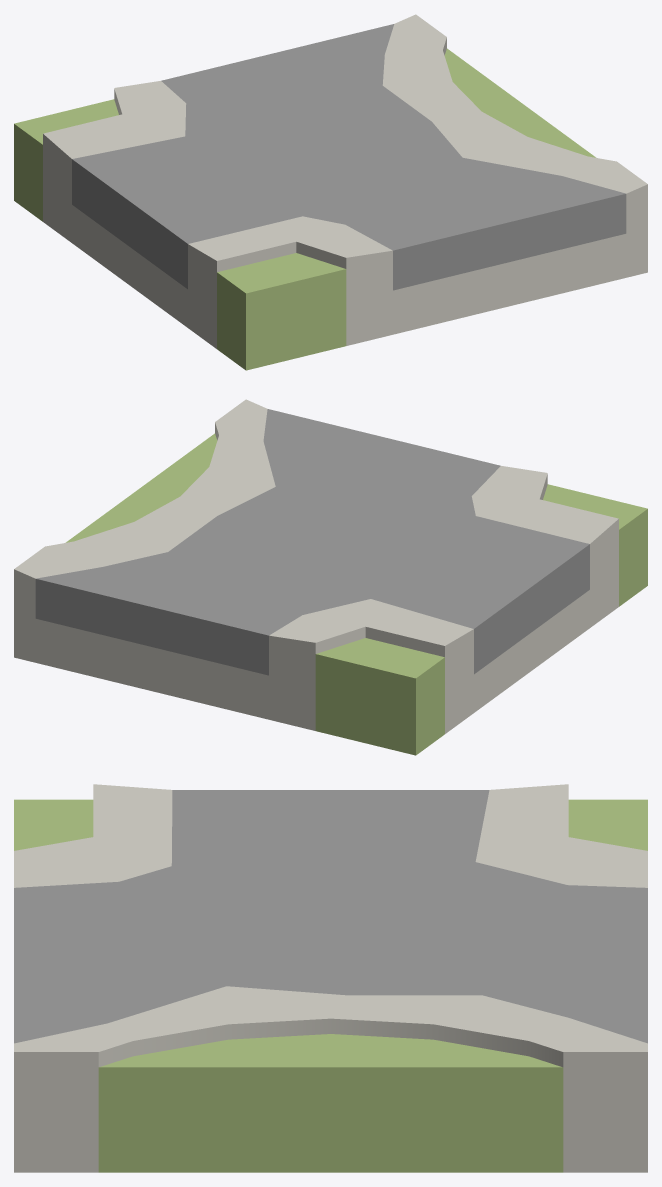
File: SM_ROAD_02.fbx
3 views of the same model, one above another, from view 1: azimuth 30°, elevation 25°; view 2: azimuth 150°, elevation 25°; view 3: azimuth 270°, elevation 25° (orthographic). The views are drawn at different scales.
Parts seen in each view (by area): view 1: ROAD_02; view 2: ROAD_02; view 3: ROAD_02.
Boxes of the visible parts, left/top/right/bottom form: ROAD_02: left=14, top=14, right=647, bottom=370; ROAD_02: left=14, top=399, right=647, bottom=755; ROAD_02: left=14, top=784, right=647, bottom=1172.
Bounding box in the file's own units: 437 × 91.85 × 437.
